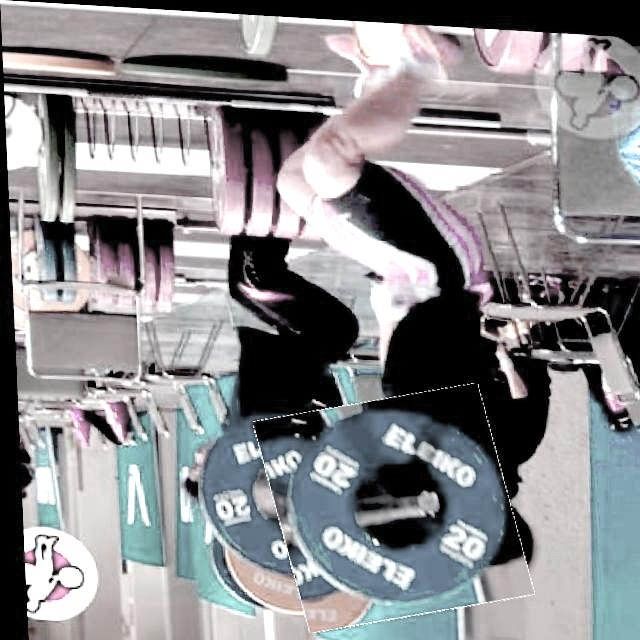barbell: (258, 379, 520, 627)
